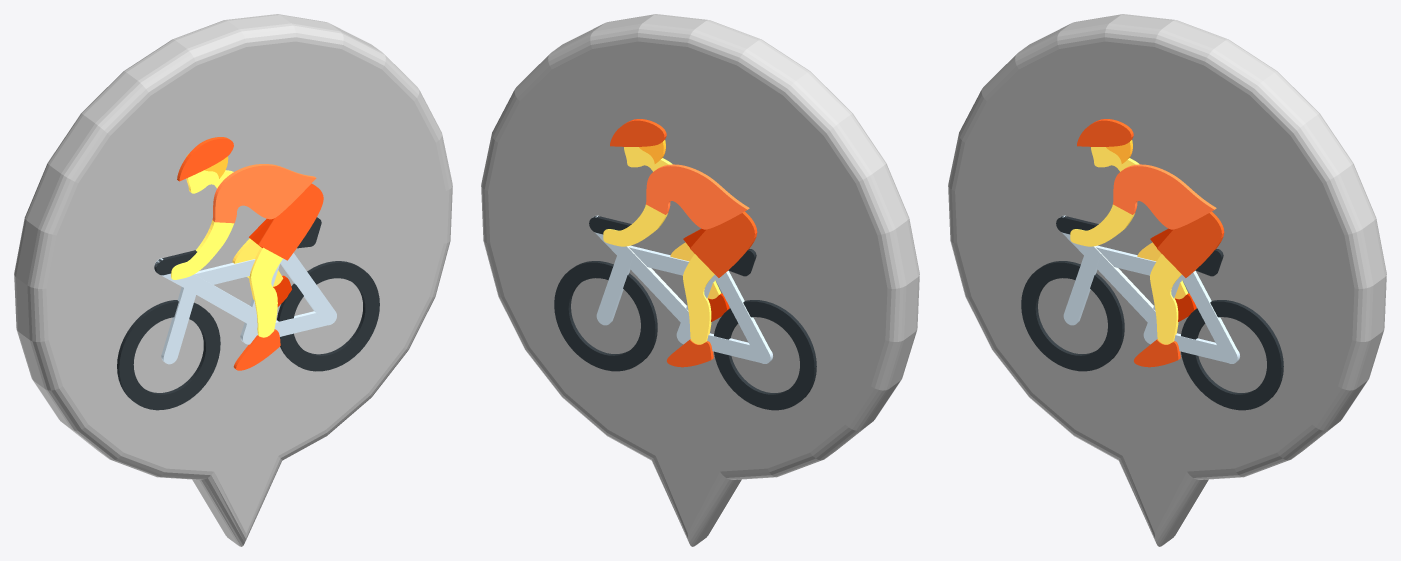
File: bicyclist.glb
The picture shows the model from 3 angles, left to right: view 1: azimuth 30°, elevation 25°; view 2: azimuth 150°, elevation 25°; view 3: azimuth 330°, elevation 25°; orthographic projection.
Parts seen in each view (by area): view 1: EmotionBubble; view 2: EmotionBubble; view 3: EmotionBubble.
Part boxes in pixels (box(x1,y1,x2,y2)): EmotionBubble: box(14, 14, 452, 546); EmotionBubble: box(481, 14, 919, 546); EmotionBubble: box(948, 14, 1386, 546).
Size of the model in its own units: 5.29 by 6.16 by 0.79.
